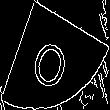O_NE: (31, 21, 79, 89)
